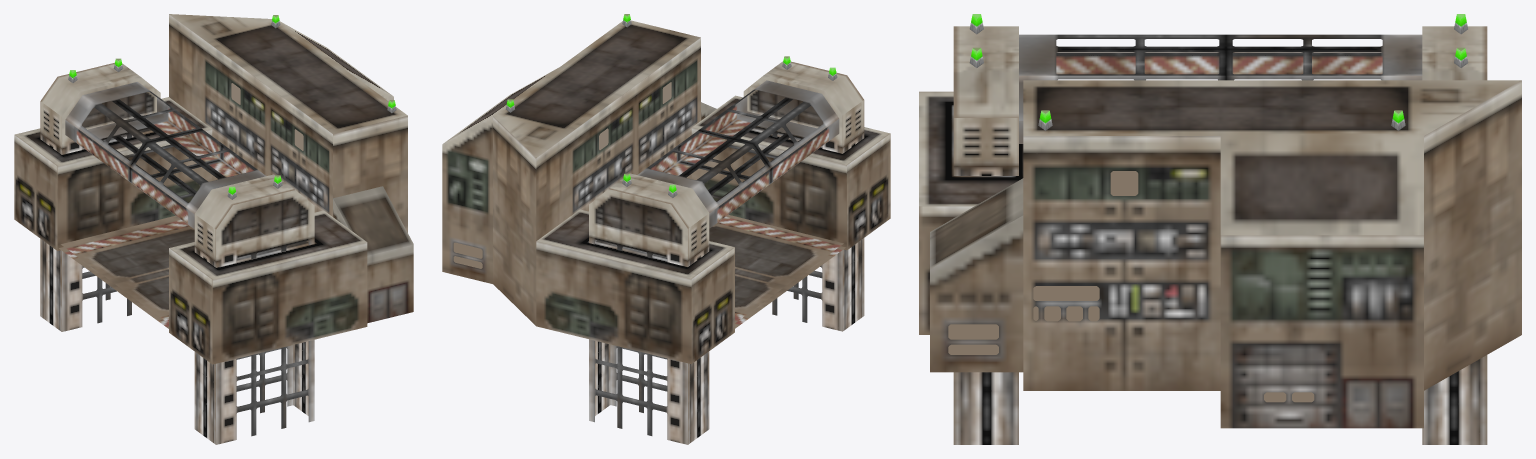
The model's file is repairbay.glb.
3 views of the same model, side by side, from view 1: azimuth 30°, elevation 25°; view 2: azimuth 150°, elevation 25°; view 3: azimuth 270°, elevation 25° (orthographic). The views are drawn at different scales.
Parts seen in each view (by area): view 1: RepairBay, LOS_Gantry, Ramp, floor, LOS_Beacon_Green; view 2: RepairBay, LOS_Gantry, Ramp, LitWin_RepairBay, floor; view 3: RepairBay, LOS_Gantry, LitWin_RepairBay, LOS_Beacon_Green.
Part boxes in pixels (x1,y1,x2,y2): RepairBay: (14,14,413,364); LOS_Gantry: (40,62,314,444); Ramp: (61,215,194,323); floor: (59,247,168,328); LOS_Beacon_Green: (68,58,282,199); RepairBay: (442,20,890,364); LOS_Gantry: (589,61,864,444); Ramp: (709,215,843,322); LitWin_RepairBay: (453,82,671,268); floor: (735,246,845,328); RepairBay: (919,80,1521,428); LOS_Gantry: (953,26,1487,444); LitWin_RepairBay: (948,171,1314,402); LOS_Beacon_Green: (969,14,1468,67).
Bounding box in the file's own units: 15.86 × 14.69 × 19.42.
Materials: 2 (2 with a texture image).
